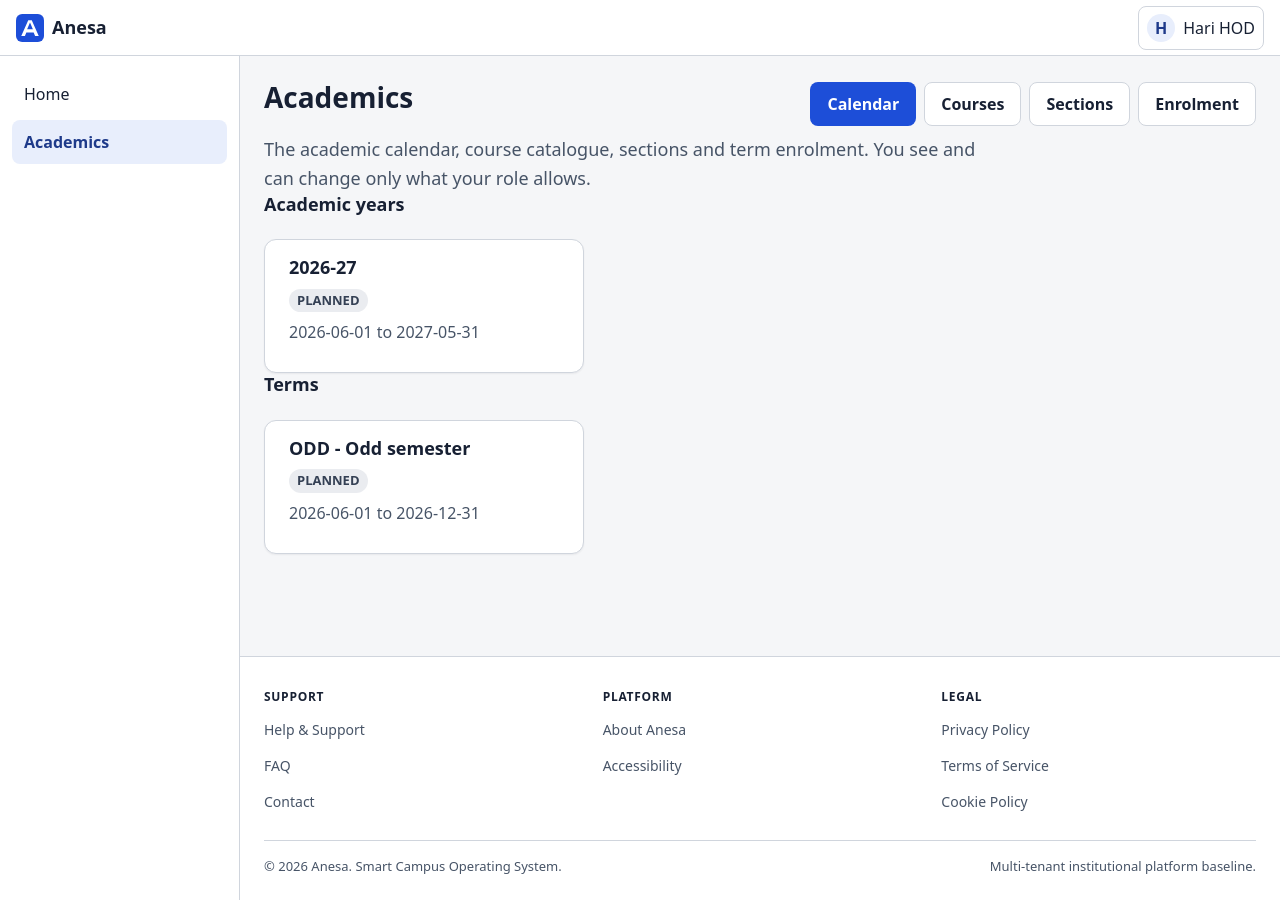
it: Academics page: access › a read-only reader sees the data but no create forms or change buttons
The image size is (1280, 900).
Expected: the heading "2026-27" is shown, [289, 255, 357, 279]
Expected: the heading "ODD - Odd semester" is shown, [289, 436, 470, 460]
Click the button "Courses" at [973, 104], box [924, 82, 1021, 126]
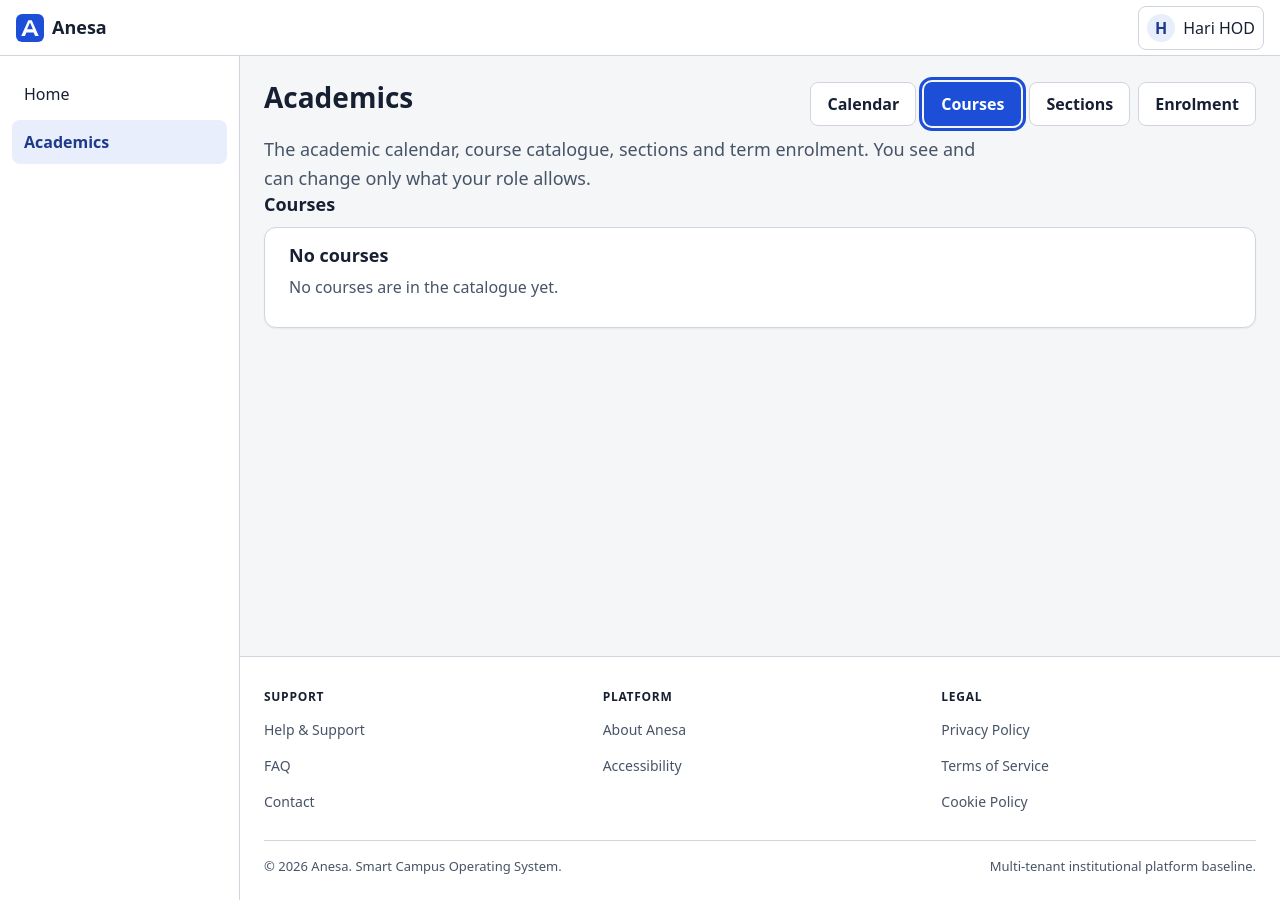
Expected: the heading "No courses" is shown, [289, 243, 388, 267]
